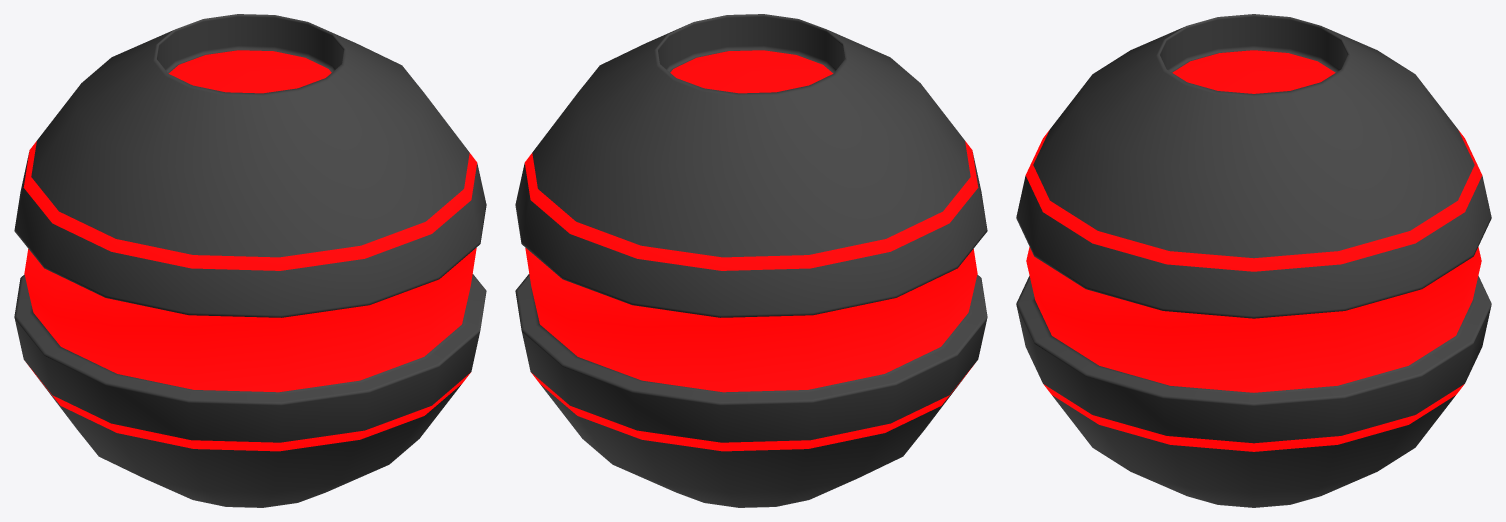
File: Beacon-bombLvl1.fbx
3 renders of one model, left to right at view 1: azimuth 30°, elevation 25°; view 2: azimuth 150°, elevation 25°; view 3: azimuth 270°, elevation 25°, orthographic.
Visible parts, largest first — view 1: Sphere; view 2: Sphere; view 3: Sphere.
Part boxes in pixels (<box>): Sphere: <box>14,14,486,507</box>; Sphere: <box>515,14,987,507</box>; Sphere: <box>1016,14,1491,507</box>.
Size of the model in its own units: 192 by 185 by 192.
